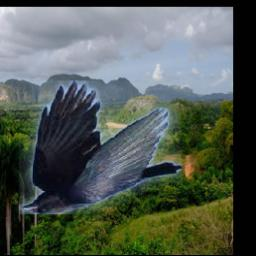Crow: (19, 80, 182, 214)
